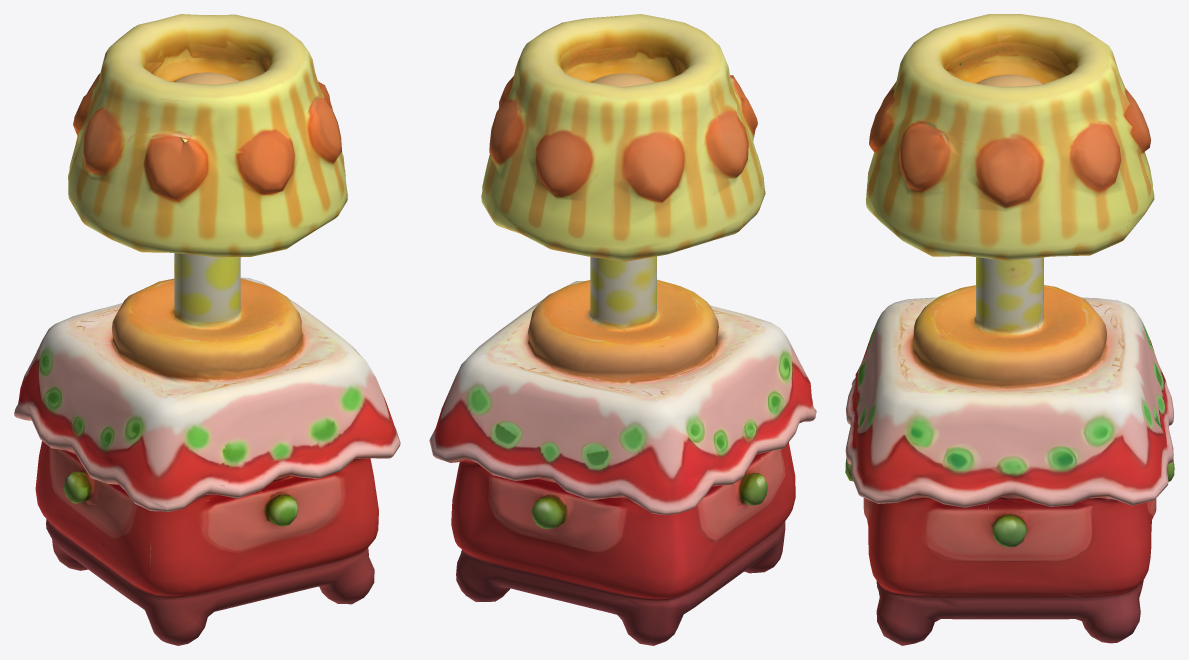
File: Cupboardlamp.glb
The picture shows the model from 3 angles, left to right: view 1: azimuth 30°, elevation 25°; view 2: azimuth 150°, elevation 25°; view 3: azimuth 270°, elevation 25°; orthographic projection. The views are drawn at different scales.
Bounding box in the file's own units: 1.04 × 1.91 × 1.04.
Materials: 1 (1 with a texture image).
